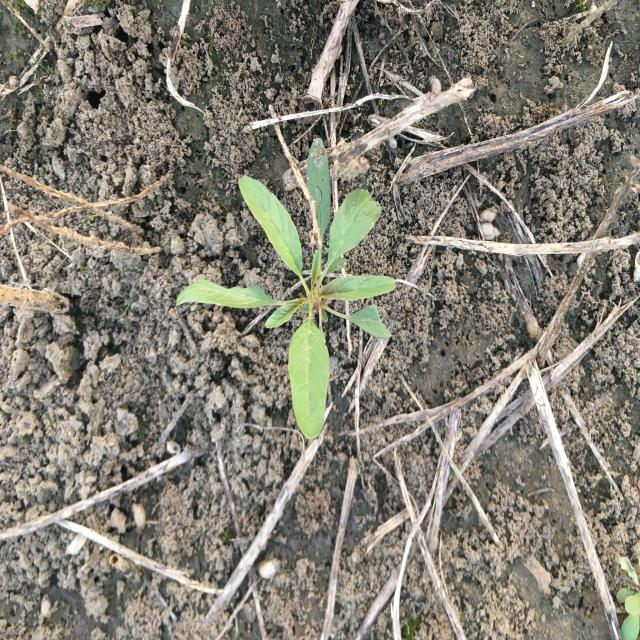Waterhemp: (174, 136, 399, 441)
